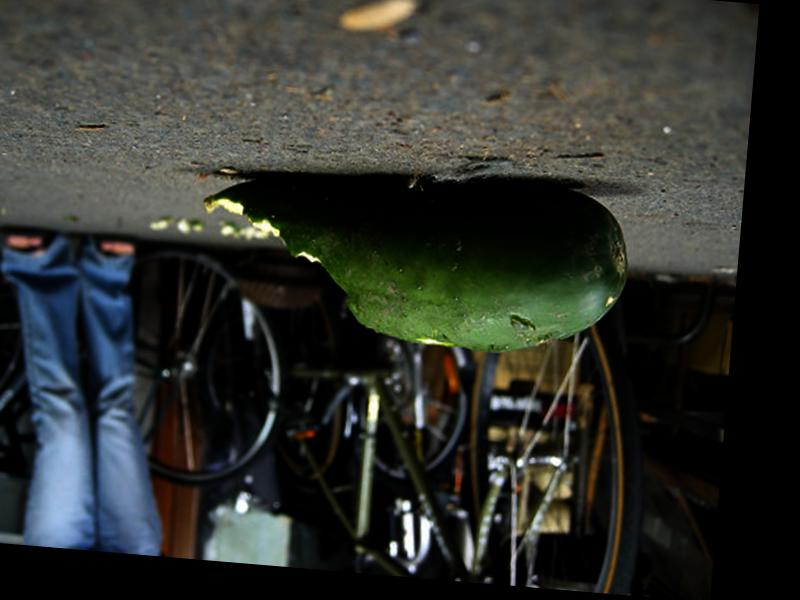Cucumber: (187, 159, 632, 361)
